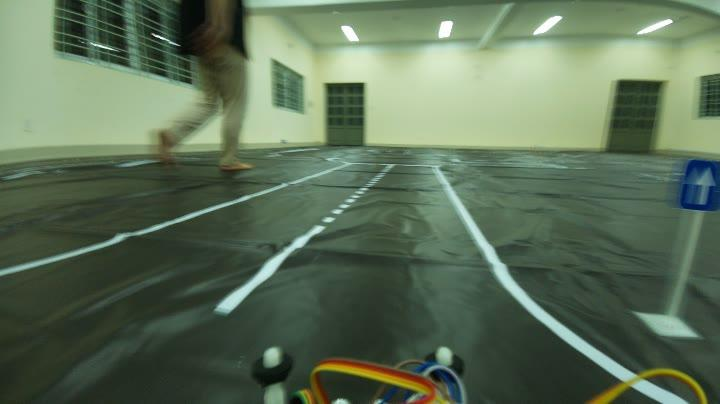onewayroad: (672, 154, 720, 216)
